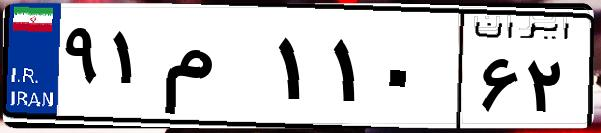0: (385, 28, 445, 110)
1: (270, 28, 330, 110), (330, 28, 385, 110), (110, 28, 158, 98)
2: (525, 38, 570, 115)
6: (475, 38, 525, 113)
9: (57, 26, 110, 100)
م: (158, 20, 270, 120)
